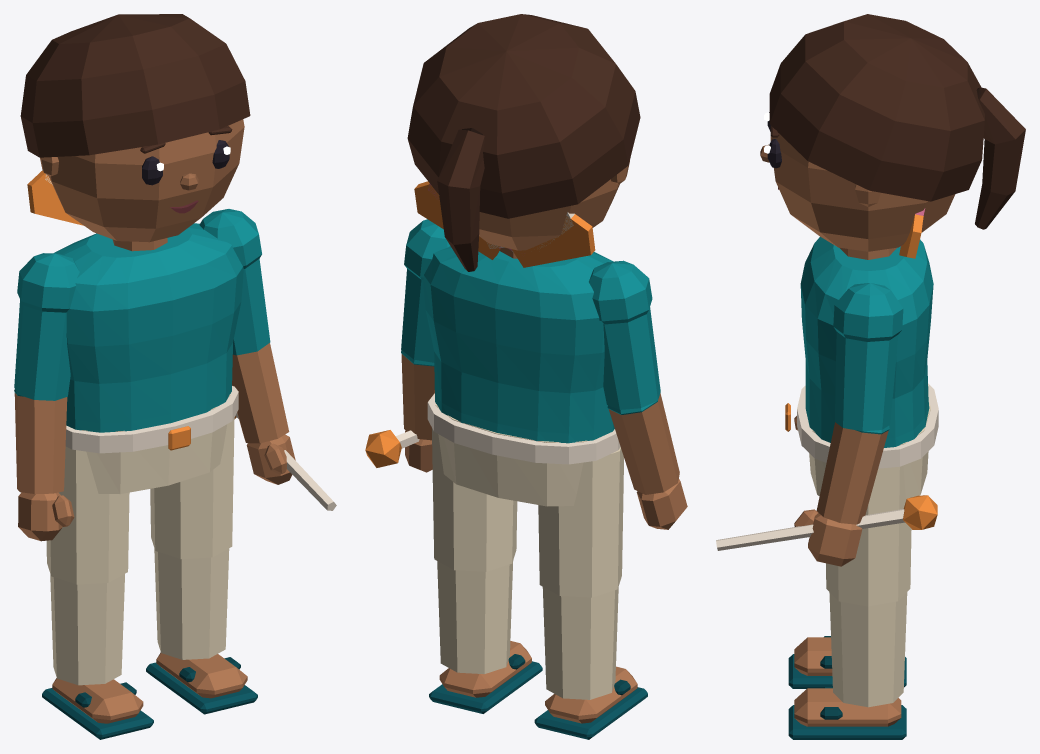
Rendered from cor-n1.glb.
3 views of the same model, side by side, from view 1: azimuth 30°, elevation 25°; view 2: azimuth 150°, elevation 25°; view 3: azimuth 270°, elevation 25° (orthographic).
Visible parts, largest first — view 1: torso, haare, bein_r, bein_l, kopf, arm_r, arm_l, becken, schuh_l, schuh_r, gürtel, hand_r (+4 smaller); view 2: haare, torso, bein_r, bein_l, arm_r, becken, arm_l, gürtel, kopf, schuh_r, schuh_l, kragen (+3 smaller); view 3: haare, torso, bein_l, arm_l, kopf, schuh_l, gürtel, gegenstand_pointer, hand_l, schuh_r, becken, kragen (+1 smaller).
Boxes of the visible parts, x1=… form: torso: x1=54, y1=223, x2=243, y2=432; haare: x1=20, y1=14, x2=250, y2=157; bein_r: x1=46, y1=446, x2=129, y2=685; bein_l: x1=150, y1=418, x2=234, y2=659; kopf: x1=40, y1=119, x2=244, y2=242; arm_r: x1=14, y1=253, x2=79, y2=493; arm_l: x1=199, y1=209, x2=289, y2=443; becken: x1=82, y1=394, x2=230, y2=494; schuh_l: x1=146, y1=652, x2=257, y2=714; schuh_r: x1=42, y1=678, x2=153, y2=739; gürtel: x1=65, y1=386, x2=238, y2=453; hand_r: x1=18, y1=492, x2=74, y2=541; haare: x1=407, y1=14, x2=640, y2=271; torso: x1=423, y1=246, x2=614, y2=443; bein_r: x1=538, y1=447, x2=623, y2=699; bein_l: x1=432, y1=428, x2=517, y2=674; arm_r: x1=589, y1=260, x2=679, y2=494; becken: x1=435, y1=404, x2=587, y2=506; arm_l: x1=401, y1=219, x2=450, y2=440; gürtel: x1=427, y1=393, x2=620, y2=464; kopf: x1=439, y1=161, x2=629, y2=250; schuh_r: x1=534, y1=666, x2=647, y2=739; schuh_l: x1=429, y1=641, x2=542, y2=713; kragen: x1=414, y1=181, x2=595, y2=267; haare: x1=769, y1=14, x2=1025, y2=229; torso: x1=800, y1=236, x2=933, y2=447; bein_l: x1=826, y1=465, x2=911, y2=707; arm_l: x1=816, y1=283, x2=903, y2=524; kopf: x1=770, y1=134, x2=955, y2=251; schuh_l: x1=788, y1=687, x2=906, y2=739; gürtel: x1=785, y1=383, x2=938, y2=468; gegenstand_pointer: x1=716, y1=495, x2=937, y2=550; hand_l: x1=794, y1=509, x2=862, y2=566; schuh_r: x1=788, y1=636, x2=906, y2=688; becken: x1=809, y1=401, x2=930, y2=499; kragen: x1=899, y1=208, x2=925, y2=258.
Bounding box in the file's own units: 0.0105 × 0.0251 × 0.0105.
